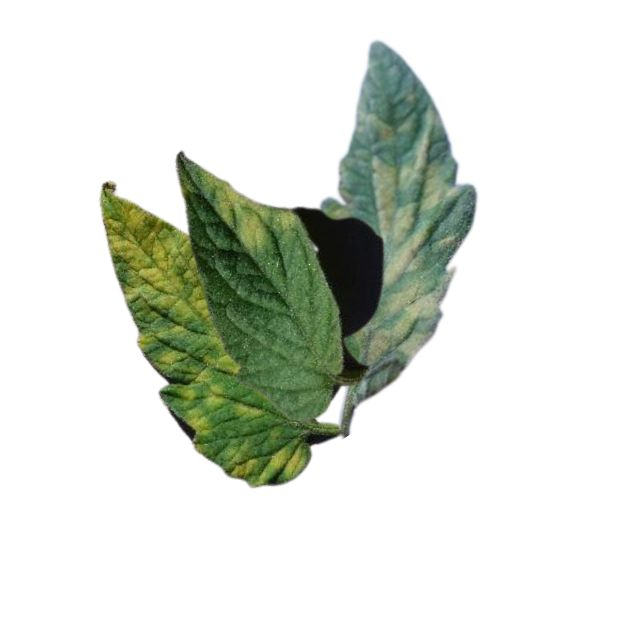Leaf_Mold: (358, 106, 476, 394), (95, 193, 211, 323), (200, 166, 295, 251), (184, 352, 240, 410), (134, 324, 185, 366), (269, 438, 312, 483), (218, 436, 258, 482), (176, 410, 208, 442)
